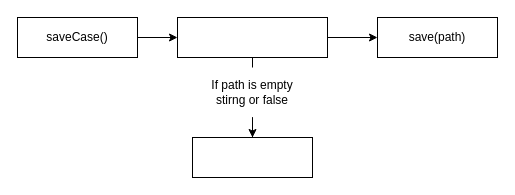
Image size: 515x195. Some labels were removed from this diagram. Each missing label, with the box of its shape:
Do nothing and abort function: (192, 136, 312, 178)
fileSaveDialogx(path): (176, 16, 328, 58)
